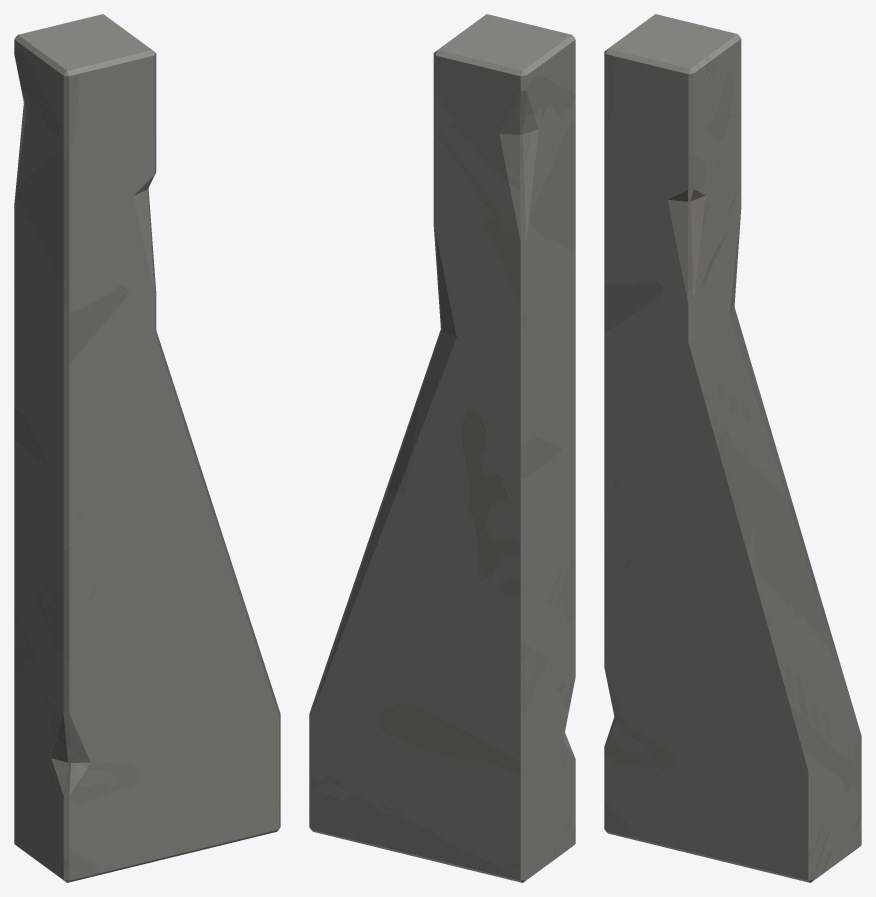
Rendered from model_concrete_pillar_02.fbx.
3 views of the same model, side by side, from view 1: azimuth 30°, elevation 25°; view 2: azimuth 150°, elevation 25°; view 3: azimuth 330°, elevation 25° (orthographic). The views are drawn at different scales.
Visible parts, largest first — view 1: model_concrete_pillar_02; view 2: model_concrete_pillar_02; view 3: model_concrete_pillar_02.
Part boxes in pixels (<box>): model_concrete_pillar_02: <box>14,14,280,882</box>; model_concrete_pillar_02: <box>309,14,575,882</box>; model_concrete_pillar_02: <box>604,14,861,882</box>.
Size of the model in its own units: 193 by 689 by 82.24.
Materials: 1 (1 with a texture image).
